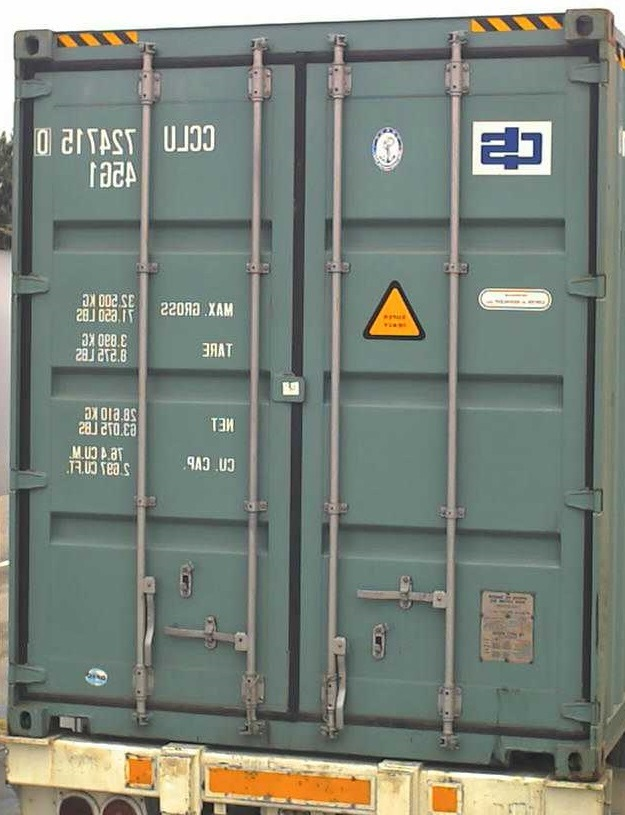container_door: (17, 9, 610, 743)
